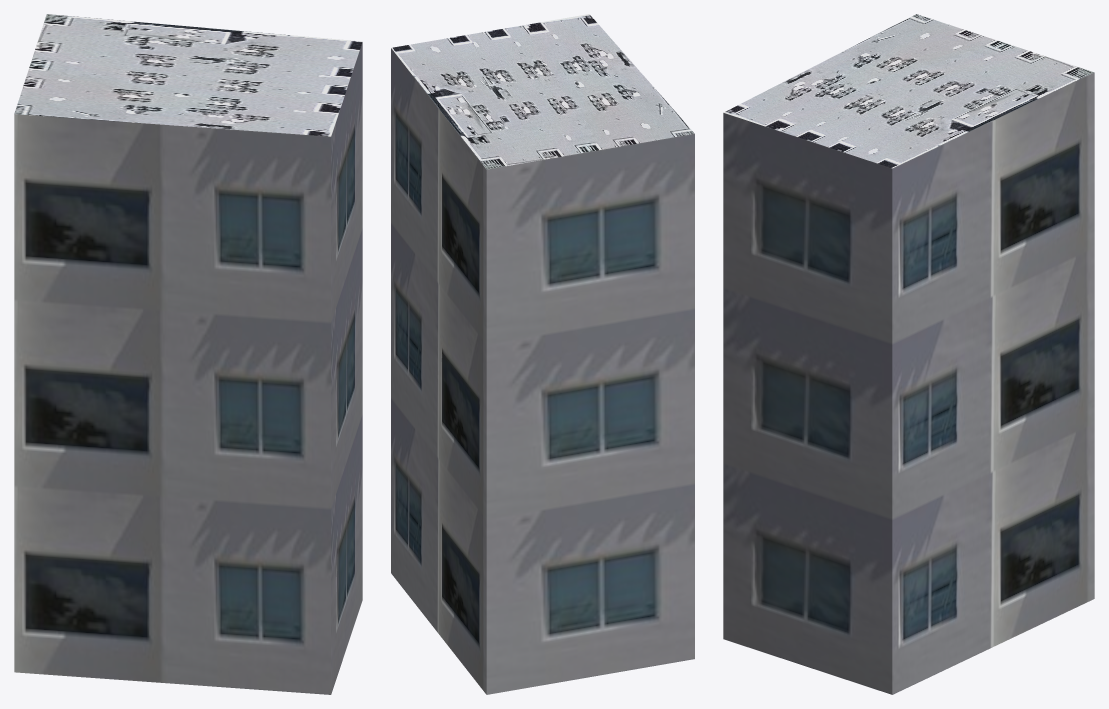
Rendered from ResTex__4312.fbx.
3 renders of one model, left to right at view 1: azimuth 30°, elevation 25°; view 2: azimuth 150°, elevation 25°; view 3: azimuth 270°, elevation 25°, orthographic. The views are drawn at different scales.
Parts seen in each view (by area): view 1: CityEngineMaterial_10_m, CityEngineMaterial_8_m; view 2: CityEngineMaterial_10_m, CityEngineMaterial_8_m; view 3: CityEngineMaterial_10_m, CityEngineMaterial_8_m.
Boxes of the visible parts, x1,y1,x2,y2 form: CityEngineMaterial_10_m: (14, 42, 362, 694); CityEngineMaterial_8_m: (14, 14, 362, 136); CityEngineMaterial_10_m: (391, 48, 694, 694); CityEngineMaterial_8_m: (391, 14, 694, 169); CityEngineMaterial_10_m: (723, 72, 1094, 694); CityEngineMaterial_8_m: (723, 14, 1093, 168).
Bounding box in the file's own units: 5.66 × 9 × 5.75.
2 materials, 2 textured.
